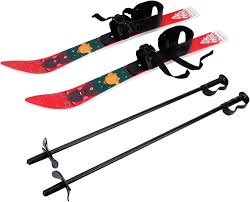skis: (1, 7, 226, 111)
